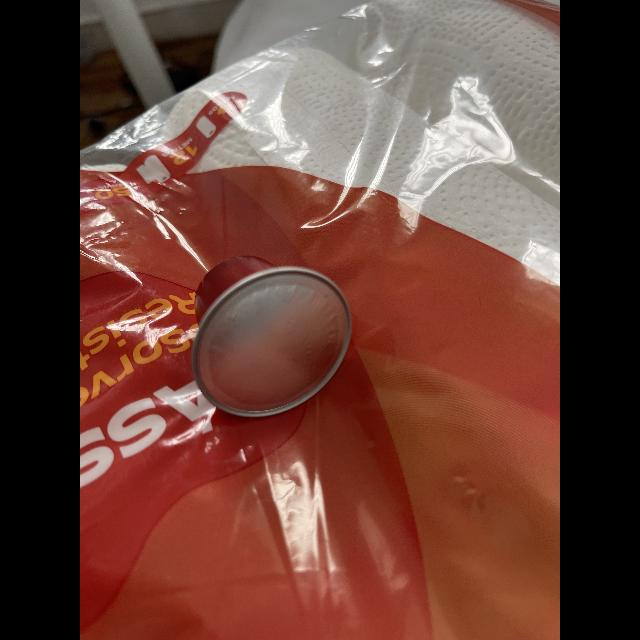intact_capsule: (181, 244, 369, 421)
